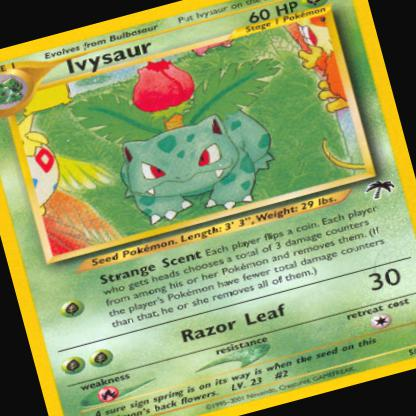Ivysaur: (64, 30, 316, 242)
